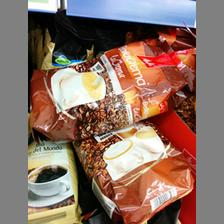Kaffee: (32, 42, 176, 134), (70, 120, 192, 222), (28, 138, 80, 220)
